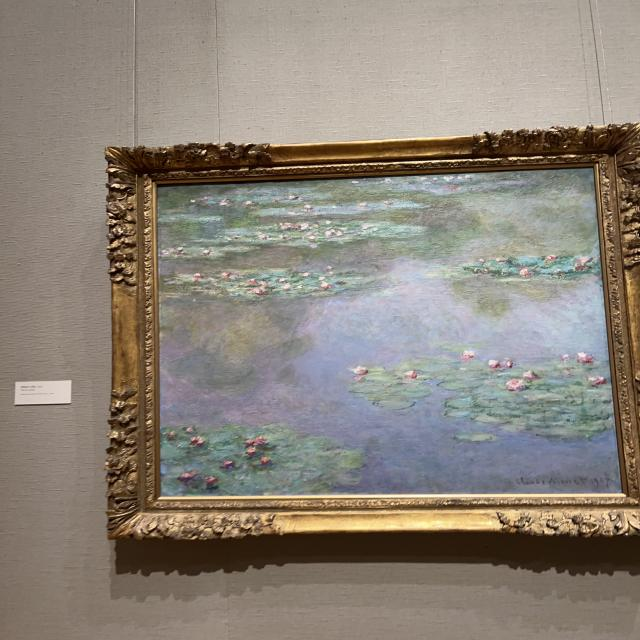lilies: (163, 172, 618, 492)
